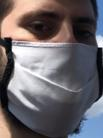with_mask: (2, 1, 103, 138)
